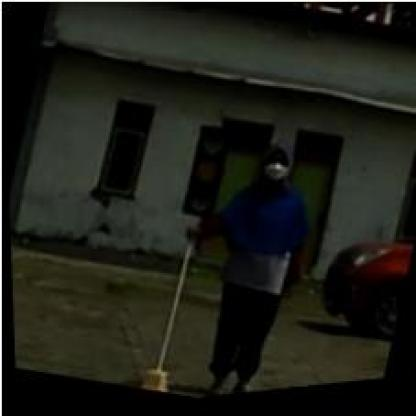yellow: (176, 126, 231, 219)
